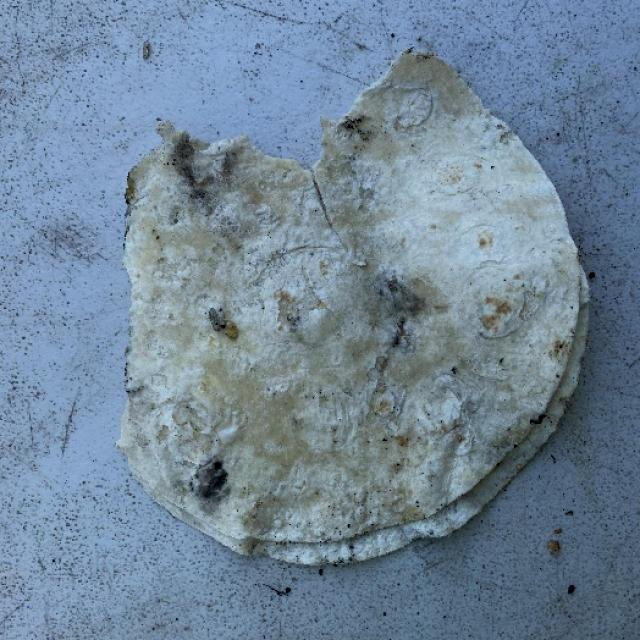organic: (86, 16, 596, 549)
